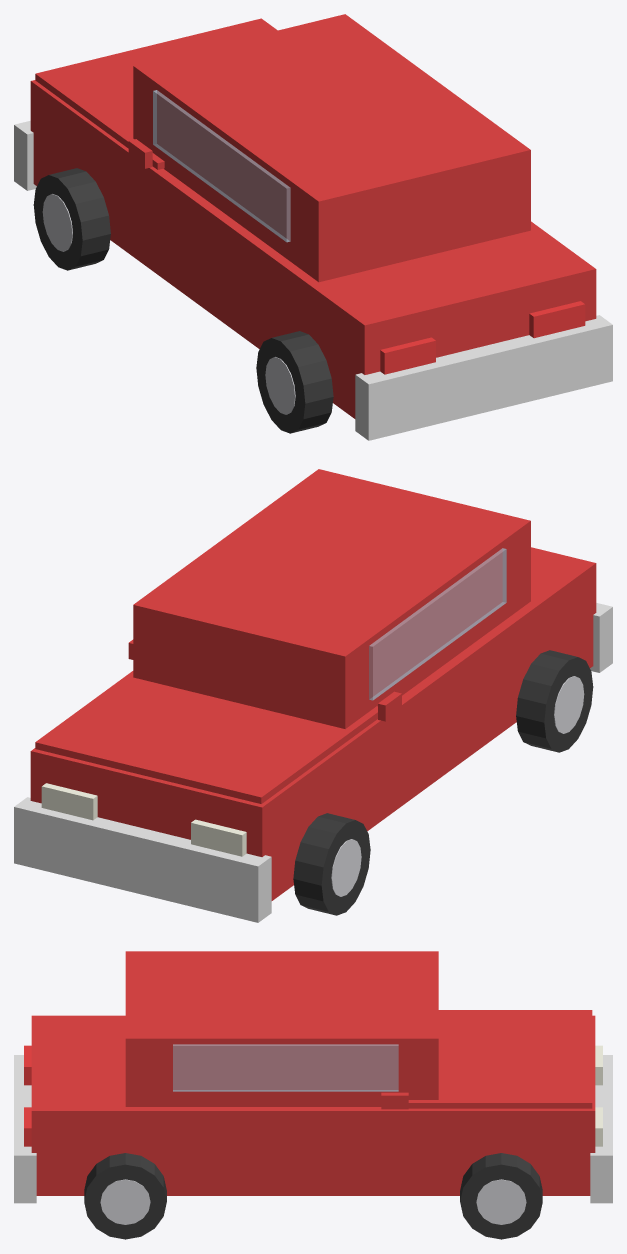
Rendered from Sedan.fbx.
3 views of the same model, one above another, from view 1: azimuth 30°, elevation 25°; view 2: azimuth 150°, elevation 25°; view 3: azimuth 270°, elevation 25° (orthographic). The views are drawn at different scales.
Visible parts, largest first — view 1: Sedan_Cabin, Sedan_Body, Sedan_BumpR, Sedan_WinL, Sedan_Hood, Sedan_Tire_RL, Sedan_Tire_FL, Sedan_FaroR_R, Sedan_FaroR_L, Sedan_Rim_FL, Sedan_Rim_RL, Sedan_BumpF; view 2: Sedan_Cabin, Sedan_Body, Sedan_Hood, Sedan_BumpF, Sedan_WinL, Sedan_Tire_FL, Sedan_Tire_RL, Sedan_FaroF_R, Sedan_FaroF_L, Sedan_Rim_RL, Sedan_Rim_FL, Sedan_BumpR; view 3: Sedan_Body, Sedan_Cabin, Sedan_Hood, Sedan_WinR, Sedan_Tire_FR, Sedan_Tire_RR, Sedan_BumpF, Sedan_BumpR, Sedan_Rim_FR, Sedan_Rim_RR, Sedan_Mirror_R.
Part boxes in pixels (x1,y1,x2,y2): Sedan_Cabin: (133, 14, 530, 282); Sedan_Body: (30, 80, 596, 418); Sedan_BumpR: (355, 315, 612, 440); Sedan_WinL: (153, 90, 290, 242); Sedan_Hood: (35, 18, 277, 169); Sedan_Tire_RL: (256, 331, 333, 433); Sedan_Tire_FL: (33, 168, 110, 270); Sedan_FaroR_R: (529, 301, 585, 338); Sedan_FaroR_L: (380, 337, 435, 374); Sedan_Rim_FL: (42, 194, 72, 251); Sedan_Rim_RL: (265, 357, 295, 414); Sedan_BumpF: (14, 120, 36, 190); Sedan_Cabin: (133, 469, 530, 728); Sedan_Body: (30, 547, 596, 900); Sedan_Hood: (35, 671, 377, 803); Sedan_BumpF: (14, 797, 271, 922); Sedan_WinL: (369, 548, 506, 700); Sedan_Tire_FL: (293, 813, 370, 915); Sedan_Tire_RL: (516, 650, 593, 752); Sedan_FaroF_R: (41, 783, 97, 820); Sedan_FaroF_L: (191, 819, 246, 856); Sedan_Rim_RL: (554, 676, 584, 733); Sedan_Rim_FL: (331, 839, 361, 896); Sedan_BumpR: (590, 603, 612, 672); Sedan_Body: (31, 1015, 595, 1195); Sedan_Cabin: (125, 951, 438, 1106); Sedan_Hood: (408, 1010, 592, 1108); Sedan_WinR: (173, 1044, 398, 1091); Sedan_Tire_FR: (460, 1153, 542, 1239); Sedan_Tire_RR: (84, 1153, 166, 1239); Sedan_BumpF: (590, 1055, 612, 1203); Sedan_BumpR: (14, 1055, 36, 1203); Sedan_Rim_FR: (476, 1179, 526, 1224); Sedan_Rim_RR: (100, 1179, 150, 1224); Sedan_Mirror_R: (381, 1092, 408, 1109).
Size of the model in its own units: 225 by 163 by 478.
